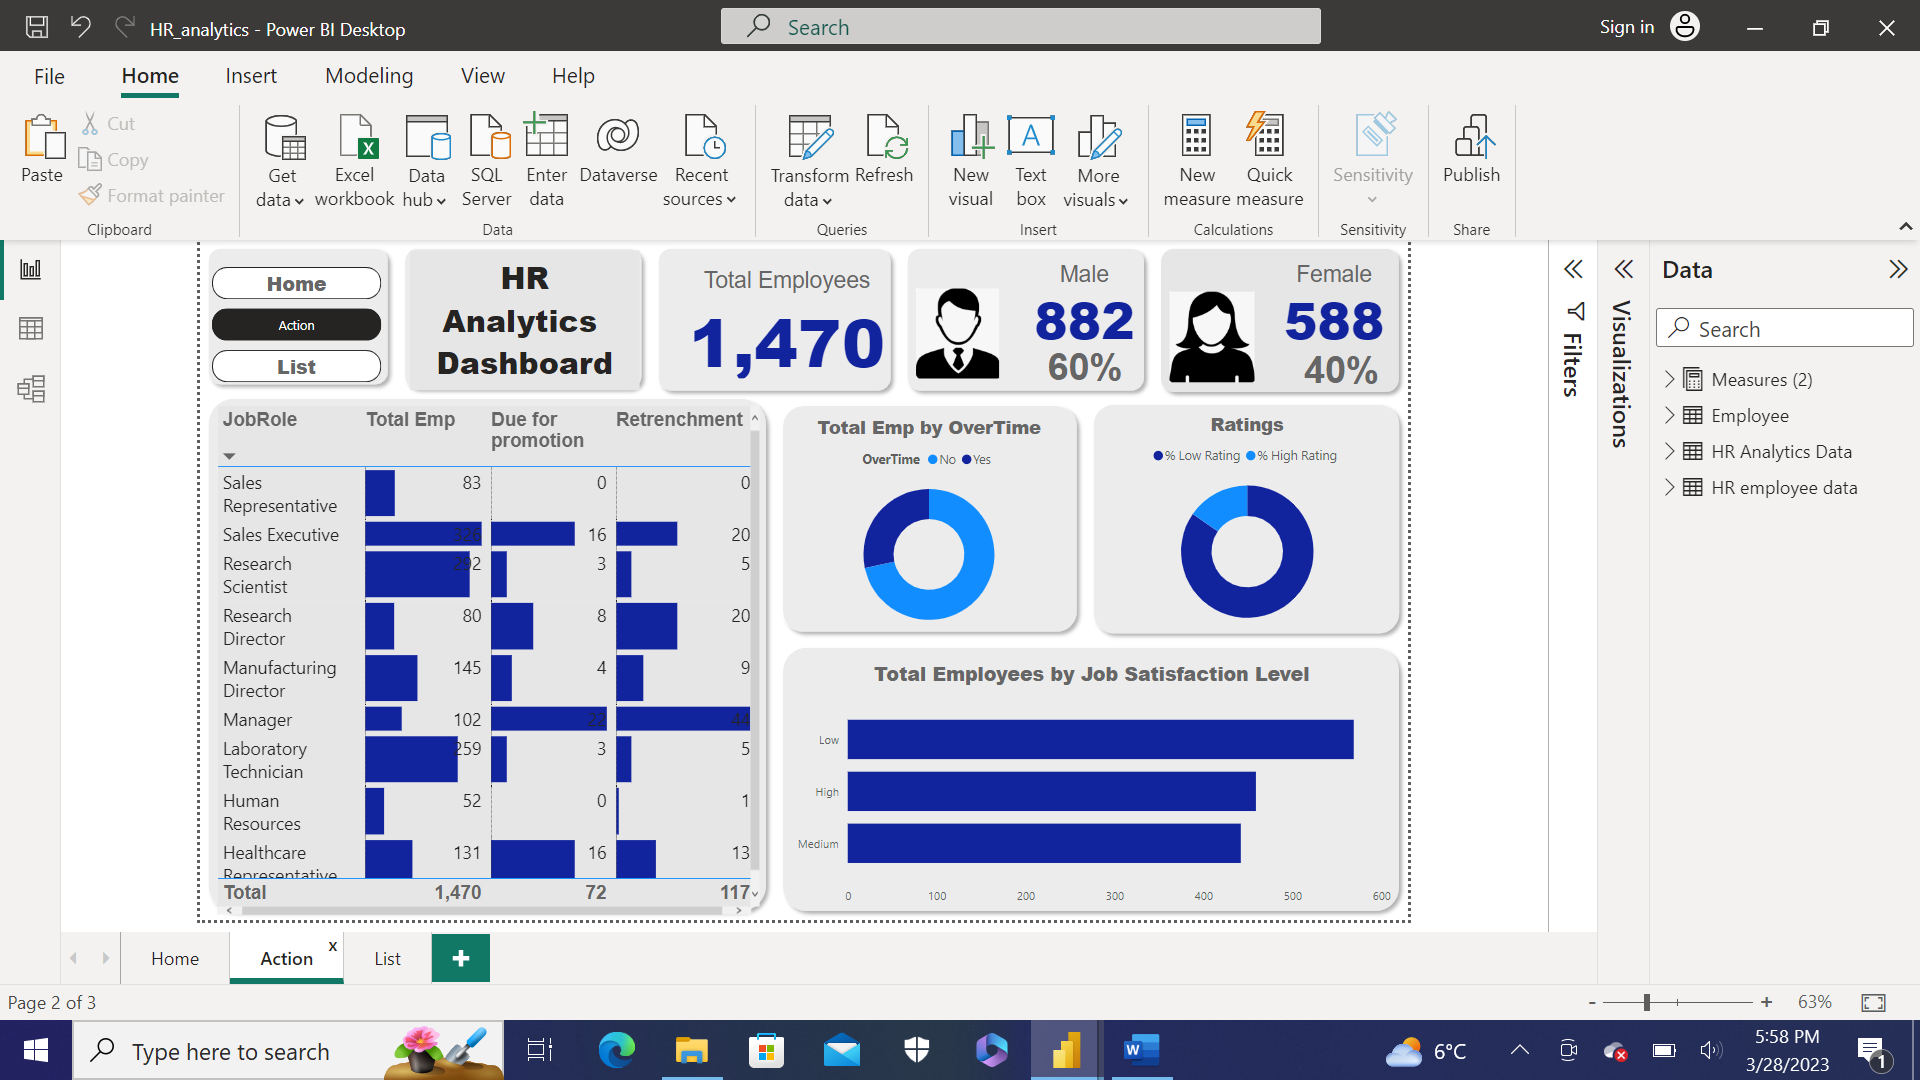

What the dashboard file says about the page in this screenshot:
{"tool":"powerbi","page":{"name":"Action","canvas":[1280,720],"ordinal":1},"visuals":[{"type":"shape","box":[0,0,208.2,162.1],"z":0},{"type":"shape","box":[208.2,0,268.6,166.9],"z":1000},{"type":"shape","box":[476.8,0,263.8,168.5],"z":2000},{"type":"shape","box":[740.7,0,268.6,168.5],"z":3000},{"type":"shape","box":[1009.3,0,270.2,170.1],"z":4000},{"type":"textbox","box":[222.5,11.1,243.2,147.8],"z":5000},{"type":"card","title":"Total Employees","fields":{"Values":["Measures (2).Total Emp"]},"box":[504.6,28.3,236.2,122.8],"z":7000},{"type":"card","title":"Male","fields":{"Values":["Measures (2).Male"]},"box":[852.3,22.7,170.1,92.6],"z":8000},{"type":"card","title":"Female","fields":{"Values":["Measures (2).Female"]},"box":[1135.8,22.7,130.4,92.6],"z":9000},{"type":"card","title":"Male","fields":{"Values":["Measures (2).% male"]},"box":[880.5,106.5,114.4,52.5],"z":10000},{"type":"card","title":"Male","fields":{"Values":["Measures (2).% female"]},"box":[1144.4,109.7,130.3,52.5],"z":11000},{"type":"image","box":[754,45.4,98.3,105.8],"z":12000},{"type":"image","box":[1022.4,45.4,100.2,113.4],"z":13000},{"type":"shape","box":[608.7,166.9,329,257.5],"z":15000},{"type":"shape","box":[0,158.9,608.7,561.1],"z":16000},{"type":"shape","box":[937.7,165.3,341.7,260.7],"z":17000},{"type":"shape","box":[608.7,422.8,670.7,297.2],"z":19000},{"type":"donutChart","title":"Ratings","fields":{"Y":["Measures (2).% Low Rating","Measures (2).% High Rating"]},"box":[952.1,181.2,314.7,241.6],"z":20000},{"type":"tableEx","fields":{"Values":["HR Analytics Data.JobRole","Measures (2).Total Emp","Measures (2).Due for promotion","Measures (2).Retreanchment"]},"box":[12.7,170.1,584.9,549.9],"z":22000},{"type":"donutChart","fields":{"Category":["HR Analytics Data.OverTime"],"Y":["Measures (2).Total Emp"]},"box":[623,181.2,298.8,241.6],"z":23000},{"type":"barChart","title":"Total Employees by Job Satisfaction Level","fields":{"Category":["HR Analytics Data.Job Satisfaction Level"],"Y":["Measures (2).Total Emp"]},"box":[623,445,643.7,268.6],"z":24000},{"type":"pageNavigator","box":[12.7,28.6,179.6,124],"z":25000}]}

Visuals, with their boxes on the page's 1280x720 design canvas (x1, y1, x2, y2). These are canvas units, not pixel positions in the 1920x1080 screenshot, which may show the page scaled, cropped or inside an application window:
shape: <box>0,0,208,162</box>
shape: <box>208,0,477,167</box>
shape: <box>477,0,741,168</box>
shape: <box>741,0,1009,168</box>
shape: <box>1009,0,1280,170</box>
textbox: <box>222,11,466,159</box>
"Total Employees" card: <box>505,28,741,151</box>
"Male" card: <box>852,23,1022,115</box>
"Female" card: <box>1136,23,1266,115</box>
"Male" card: <box>880,106,995,159</box>
"Male" card: <box>1144,110,1275,162</box>
image: <box>754,45,852,151</box>
image: <box>1022,45,1123,159</box>
shape: <box>609,167,938,424</box>
shape: <box>0,159,609,720</box>
shape: <box>938,165,1279,426</box>
shape: <box>609,423,1279,720</box>
"Ratings" donutChart: <box>952,181,1267,423</box>
tableEx - HR Analytics Data.JobRole x Measures (2).Total Emp: <box>13,170,598,720</box>
donutChart - HR Analytics Data.OverTime x Measures (2).Total Emp: <box>623,181,922,423</box>
"Total Employees by Job Satisfaction Level" barChart: <box>623,445,1267,714</box>
pageNavigator: <box>13,29,192,153</box>
